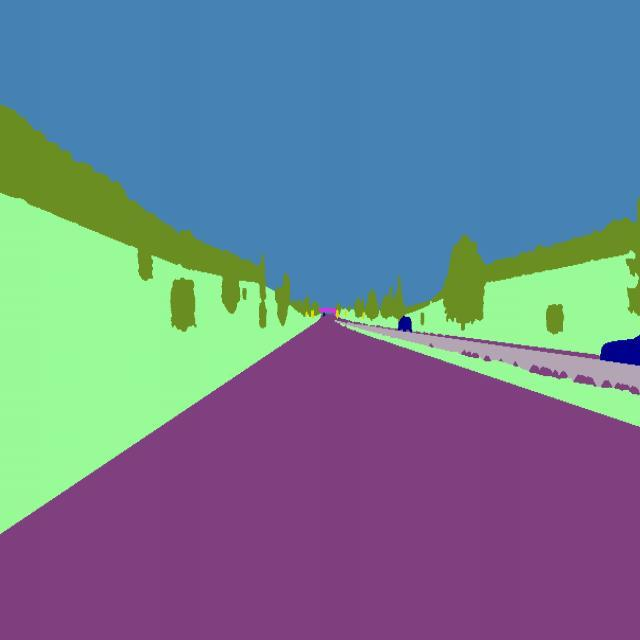safe: (594, 331, 640, 375), (396, 310, 416, 338)
